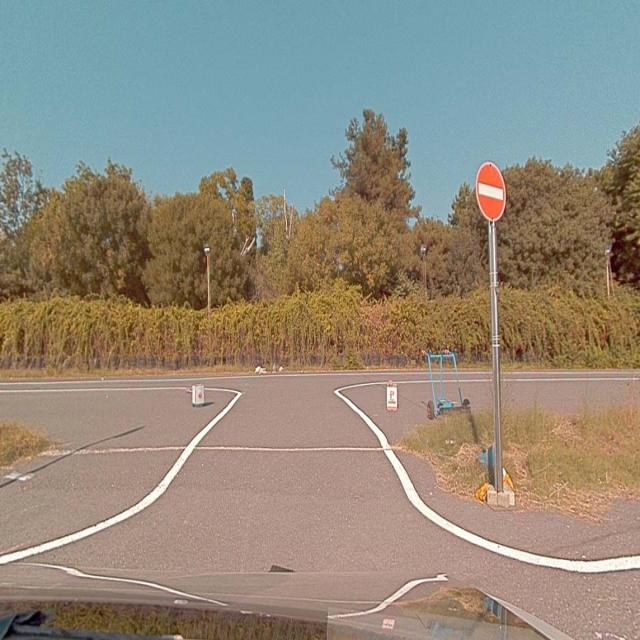girisyok: (476, 163, 506, 221)
